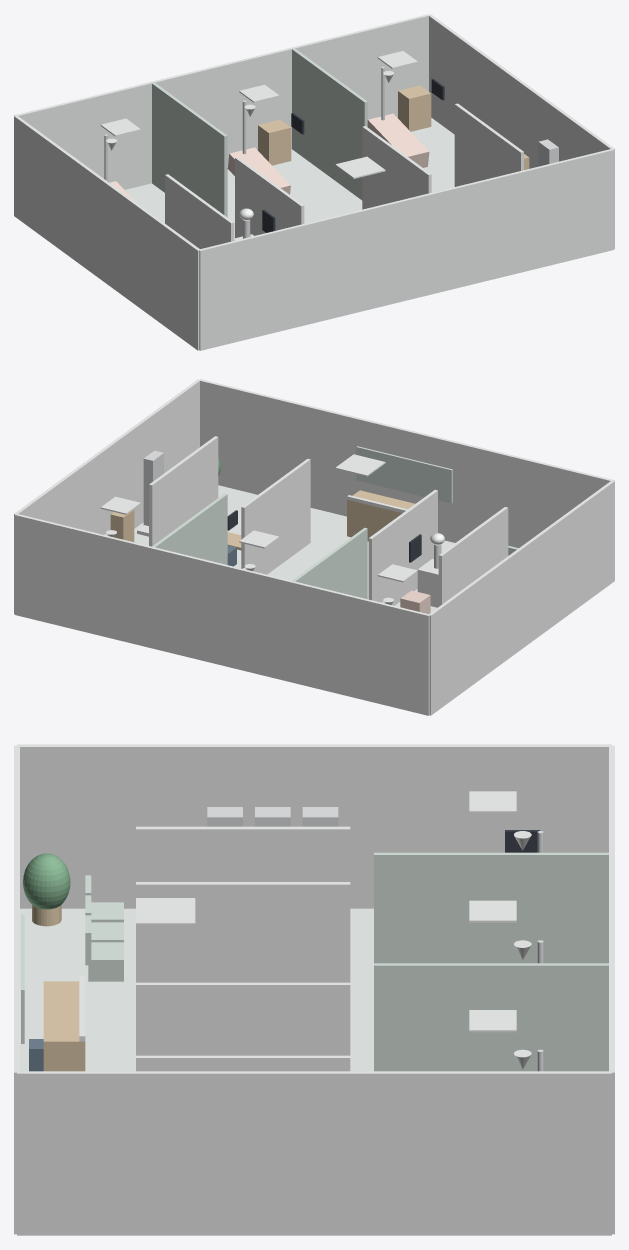
3 views of the same model, one above another, from view 1: azimuth 30°, elevation 25°; view 2: azimuth 150°, elevation 25°; view 3: azimuth 270°, elevation 25° (orthographic). The views are drawn at different scales.
Parts seen in each view (by area): view 1: WallFront, WallBack, WallLeft, WallRight, Partition2, Partition1, Floor, ToiletPartition, OfficePartition, ScanPartition, SterilPartition, ChairC (+5 smaller); view 2: WallBack, WallFront, WallLeft, WallRight, OfficePartition, ToiletPartition, ScanPartition, SterilPartition, Floor, LogoWall, Partition2, Partition1 (+6 smaller); view 3: WallRight, WallLeft, Partition1, Partition2, ScanPartition, OfficePartition, Floor, SterilPartition, ToiletPartition, FrontDesk, WallBack, WallFront (+11 smaller).
Part boxes in pixels (bbox=[...]): WallFront: bbox=[199, 149, 614, 350]; WallBack: bbox=[14, 14, 429, 189]; WallLeft: bbox=[14, 115, 199, 350]; WallRight: bbox=[428, 14, 614, 248]; Partition2: bbox=[292, 48, 367, 200]; Partition1: bbox=[152, 82, 227, 217]; Floor: bbox=[125, 118, 454, 237]; ToiletPartition: bbox=[454, 103, 523, 186]; OfficePartition: bbox=[362, 126, 431, 209]; ScanPartition: bbox=[235, 157, 304, 238]; SterilPartition: bbox=[165, 174, 234, 248]; ChairC: bbox=[367, 113, 429, 167]; WallBack: bbox=[14, 514, 429, 715]; WallFront: bbox=[199, 379, 614, 548]; WallLeft: bbox=[429, 480, 614, 715]; WallRight: bbox=[14, 379, 199, 613]; OfficePartition: bbox=[241, 458, 310, 574]; ToiletPartition: bbox=[149, 436, 218, 546]; ScanPartition: bbox=[368, 490, 437, 605]; SterilPartition: bbox=[438, 507, 508, 606]; Floor: bbox=[134, 485, 454, 612]; LogoWall: bbox=[356, 446, 452, 503]; Partition2: bbox=[152, 493, 227, 564]; Partition1: bbox=[291, 527, 367, 599]; WallRight: bbox=[17, 1071, 611, 1235]; WallLeft: bbox=[17, 744, 611, 908]; Partition1: bbox=[374, 852, 608, 963]; Partition2: bbox=[374, 963, 608, 1071]; ScanPartition: bbox=[136, 882, 350, 982]; OfficePartition: bbox=[136, 982, 350, 1055]; Floor: bbox=[20, 908, 373, 1071]; SterilPartition: bbox=[136, 826, 350, 881]; ToiletPartition: bbox=[136, 1055, 350, 1071]; FrontDesk: bbox=[43, 981, 85, 1071]; WallBack: bbox=[609, 745, 614, 1234]; WallFront: bbox=[14, 745, 19, 1234].
Size of the model in its own units: 13.1 by 3 by 10.1.
